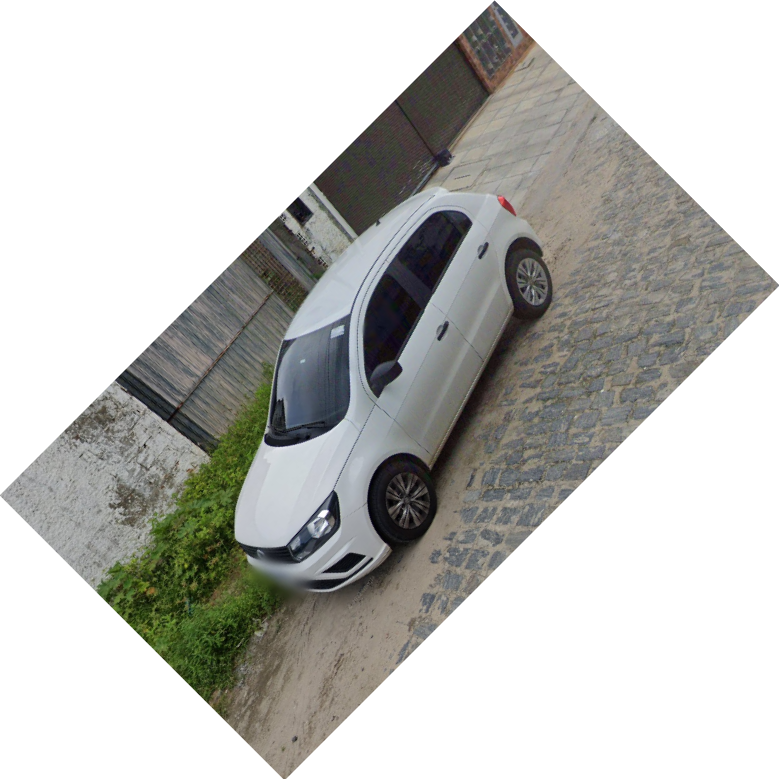car: (230, 183, 554, 601)
